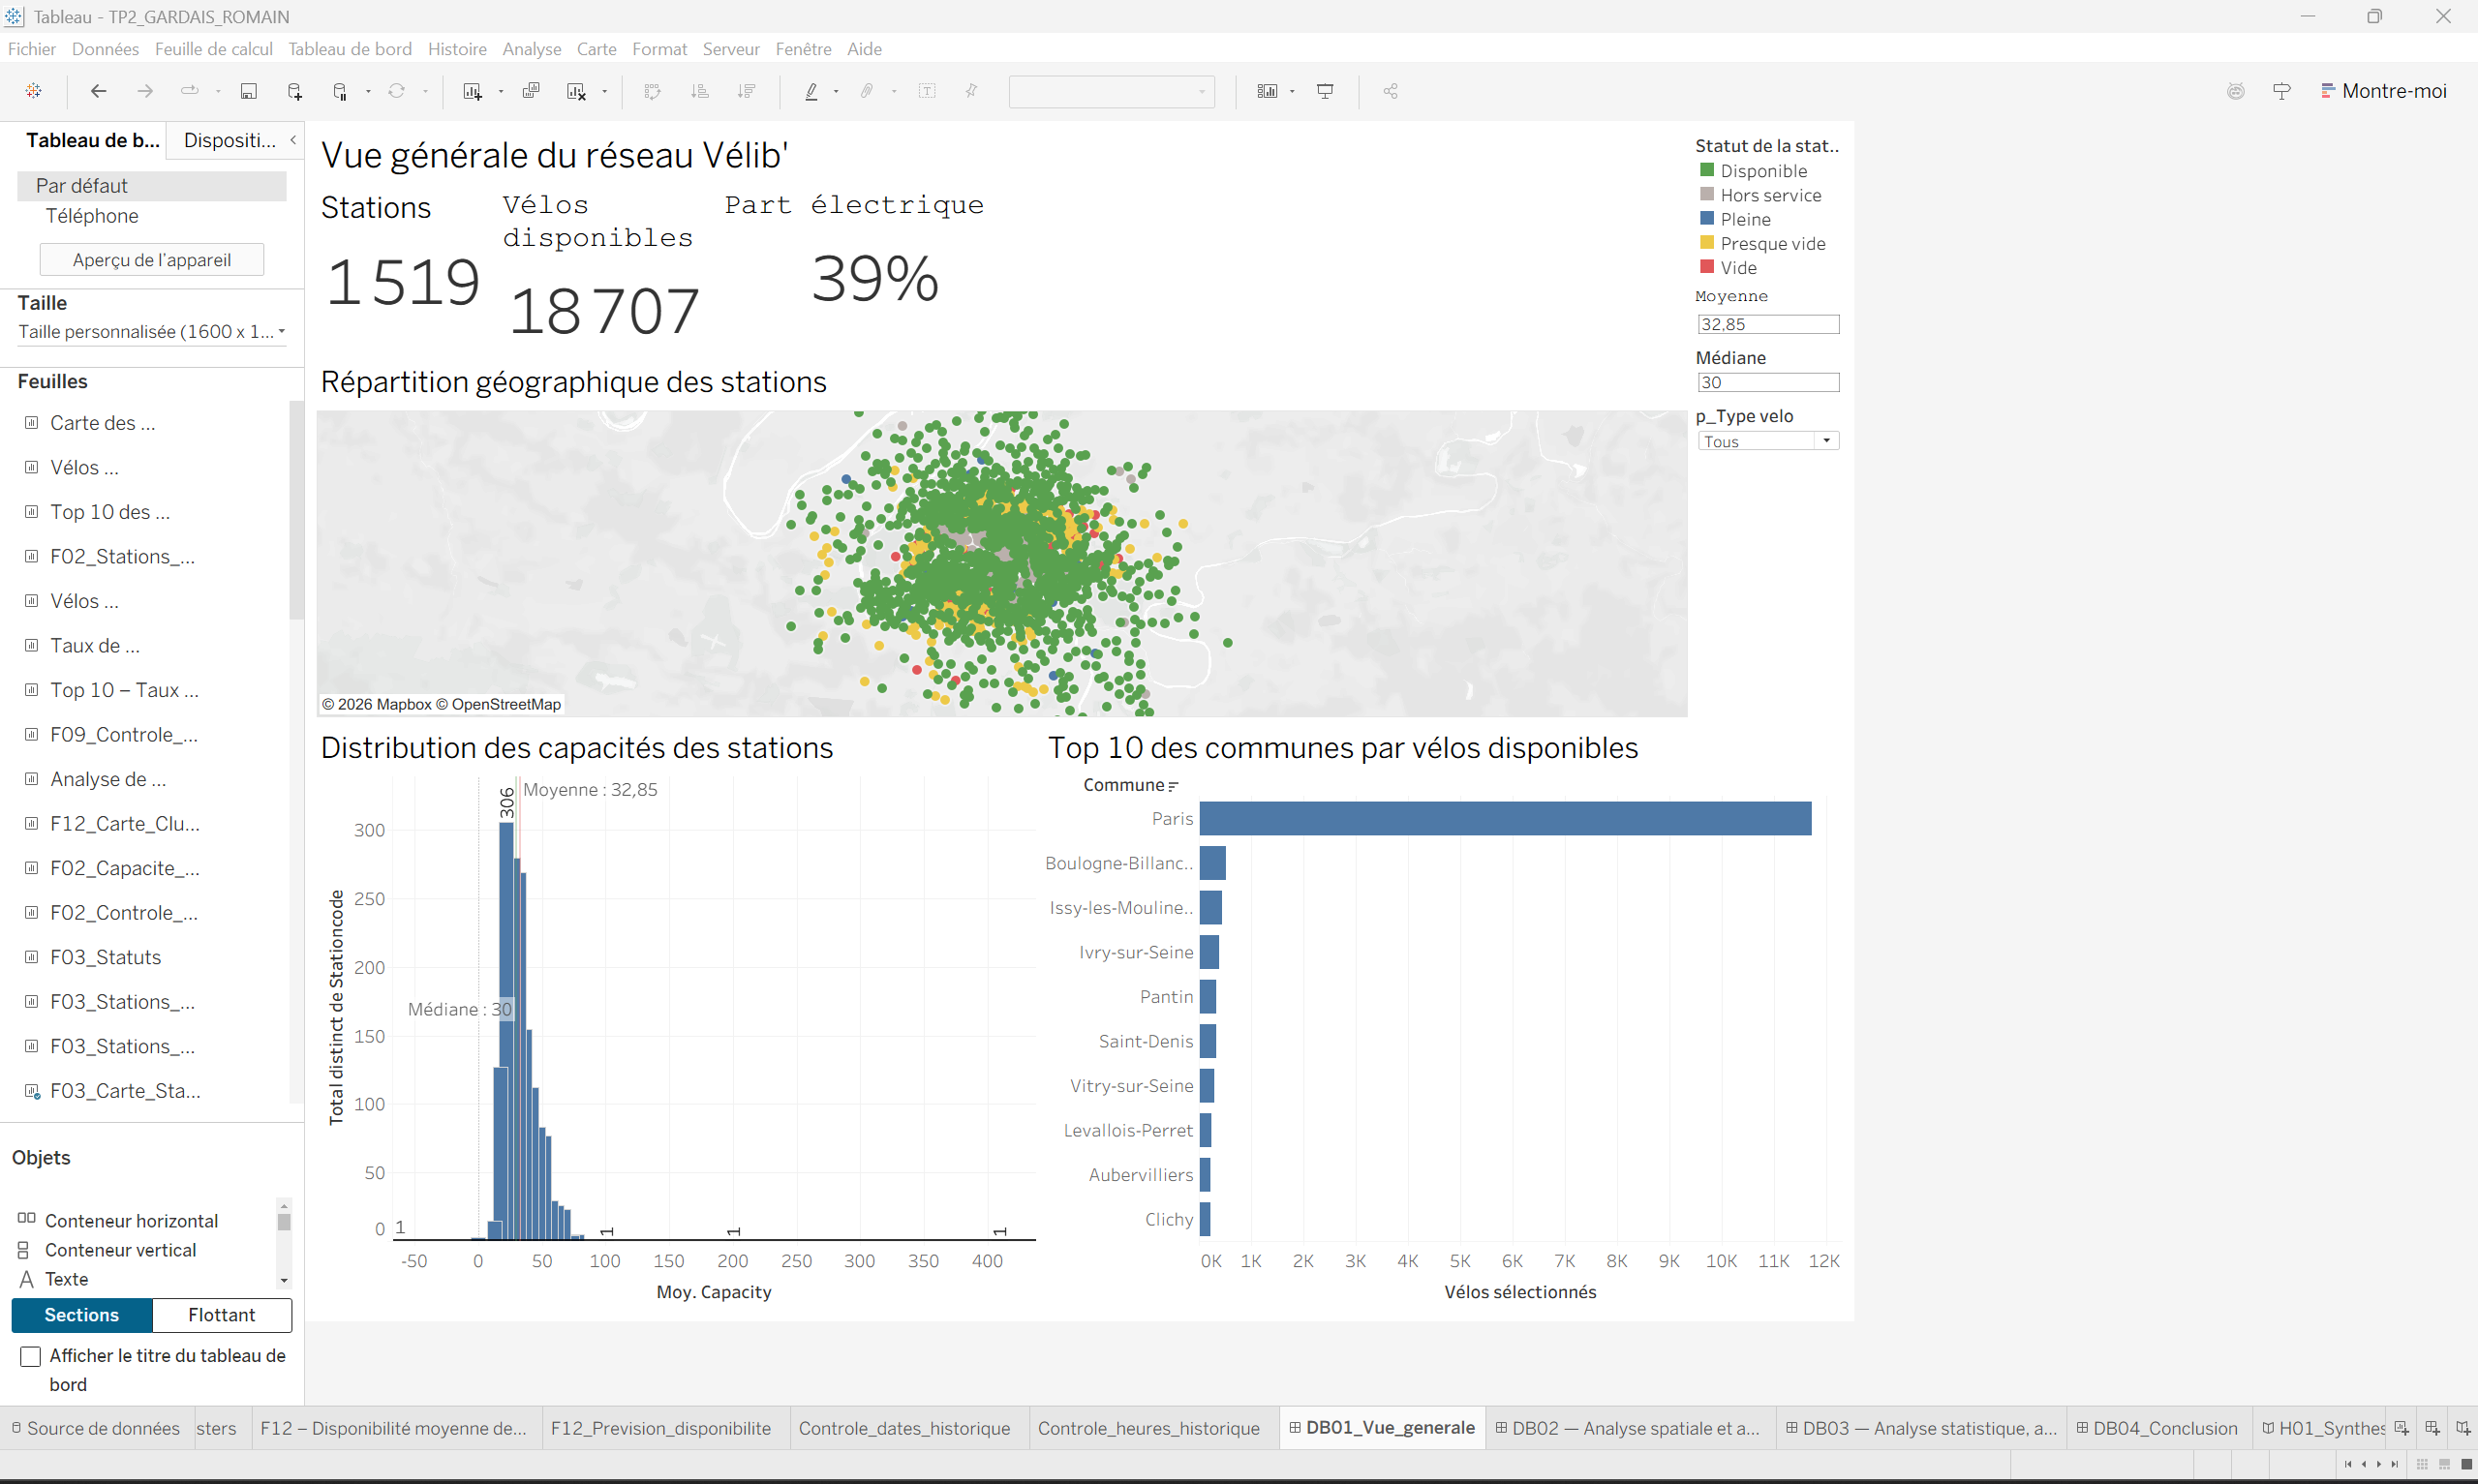

This screenshot's page, from the dashboard's own definition file:
{"tool":"tableau","page":{"name":"DB01_Vue_generale","canvas":[1600,1240],"ordinal":0},"visuals":[{"type":"title","box":[8,8,1424,54]},{"type":"legend","title":"F03_Carte_Statuts","param":"[federated.0wbndu419myje41cqwui41aiyuwq].[none:Calculation_0956084298629127:nk]","box":[1432,8,160,159]},{"type":"worksheet","title":"K1_Stations","mark":"Automatic","box":[8,62,188,180]},{"type":"worksheet","title":"K2_Velos","mark":"Text","box":[196,62,228,180]},{"type":"worksheet","title":"K3_Electriques","mark":"Automatic","box":[424,62,330,180]},{"type":"parameter","param":"[Parameters].[Paramètre 1854385582751759]","box":[1432,167,160,60]},{"type":"parameter","param":"[Parameters].[Paramètre 1854385583321104]","box":[1432,227,160,60]},{"type":"worksheet","title":"F03_Carte_Statuts","mark":"Automatic","rows":["lat"],"cols":["lon"],"box":[8,242,1424,378]},{"type":"parameter","param":"[Parameters].[Paramètre 1854385574453253]","box":[1432,287,160,60]},{"type":"worksheet","title":"F10_Histogramme_References","mark":"Bar","rows":["stationcode"],"cols":["capacity"],"box":[8,620,751,612]},{"type":"worksheet","title":"Top 10 des communes — Vélos disponibles","mark":"Bar","rows":["commune"],"cols":["Calculation_1854385574797318"],"box":[759,620,833,612]}]}

Visuals, with their boxes on the page's 1600x1240 design canvas (x1, y1, x2, y2). These are canvas units, not pixel positions in the 2478x1484 screenshot, which may show the page scaled, cropped or inside an application window:
title: bbox(8, 8, 1432, 62)
"F03_Carte_Statuts" legend: bbox(1432, 8, 1592, 167)
"K1_Stations" worksheet: bbox(8, 62, 196, 242)
"K2_Velos" worksheet (Text marks): bbox(196, 62, 424, 242)
"K3_Electriques" worksheet: bbox(424, 62, 754, 242)
parameter: bbox(1432, 167, 1592, 227)
parameter: bbox(1432, 227, 1592, 287)
"F03_Carte_Statuts" worksheet: bbox(8, 242, 1432, 620)
parameter: bbox(1432, 287, 1592, 347)
"F10_Histogramme_References" worksheet (Bar marks): bbox(8, 620, 759, 1232)
"Top 10 des communes — Vélos disponibles" worksheet (Bar marks): bbox(759, 620, 1592, 1232)
